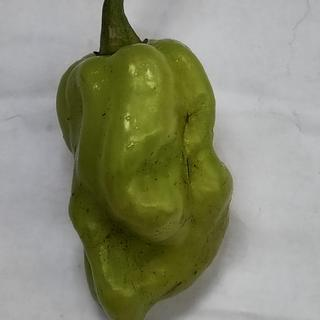Defect: (99, 210, 134, 256), (181, 109, 196, 130)
Fly-bites: (99, 108, 111, 123), (63, 114, 75, 128), (191, 268, 203, 279), (193, 164, 197, 169)
striped: (160, 280, 185, 300), (182, 155, 195, 182)
